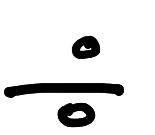div: (4, 36, 124, 127)
